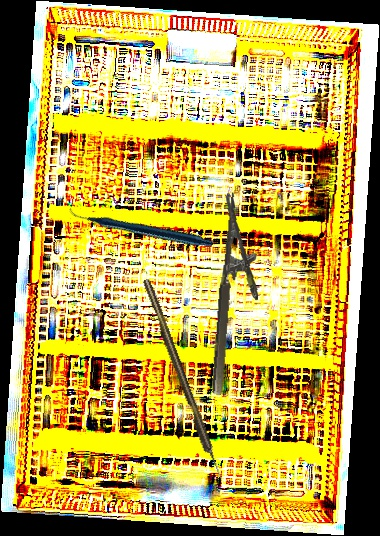Handpiece: (67, 151, 216, 302)
Hook Surgical: (141, 277, 225, 483)
Needle Holder: (209, 191, 267, 398)
